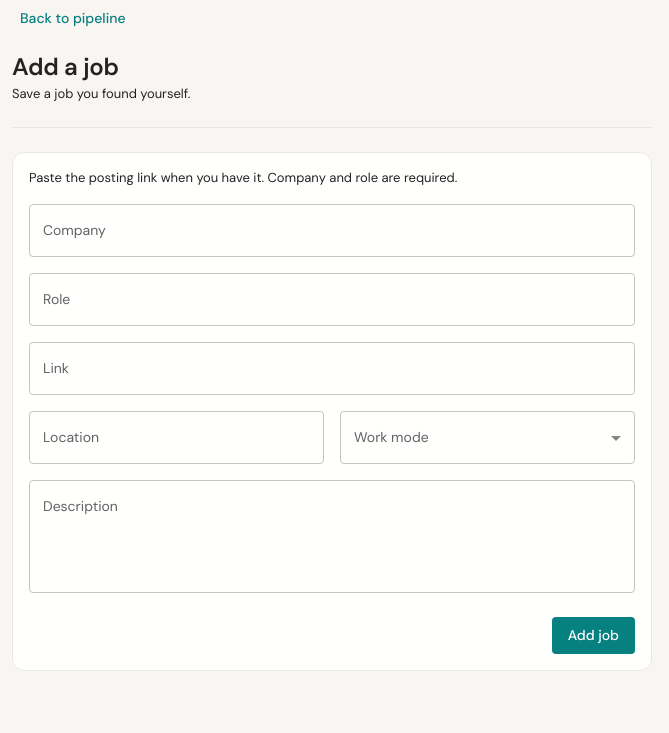
Scenario: AddJobPage › should require a company and a role
Click the button "Add job" at (593, 635), box [552,617,635,654]
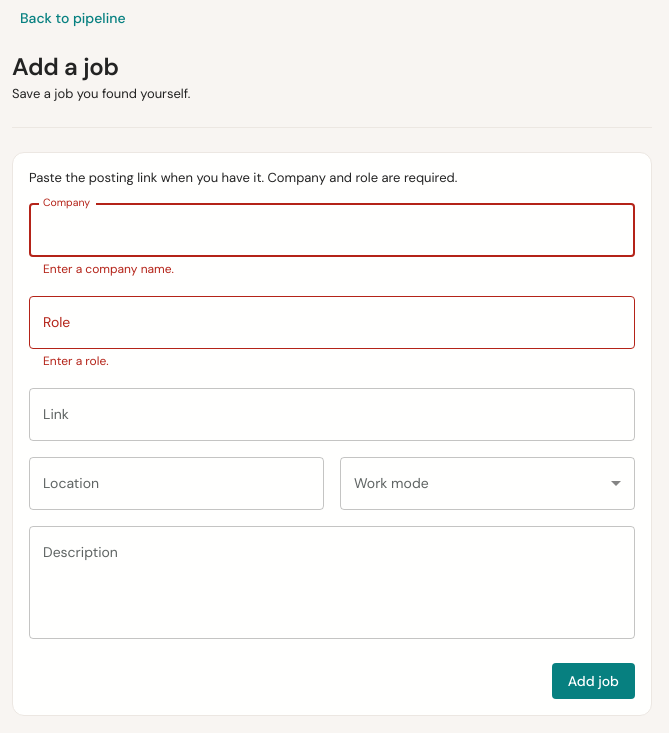
Expected: the text "Enter a company name." is shown, [43,261,174,277]
Expected: the text "Enter a role." is shown, [43,353,109,369]
